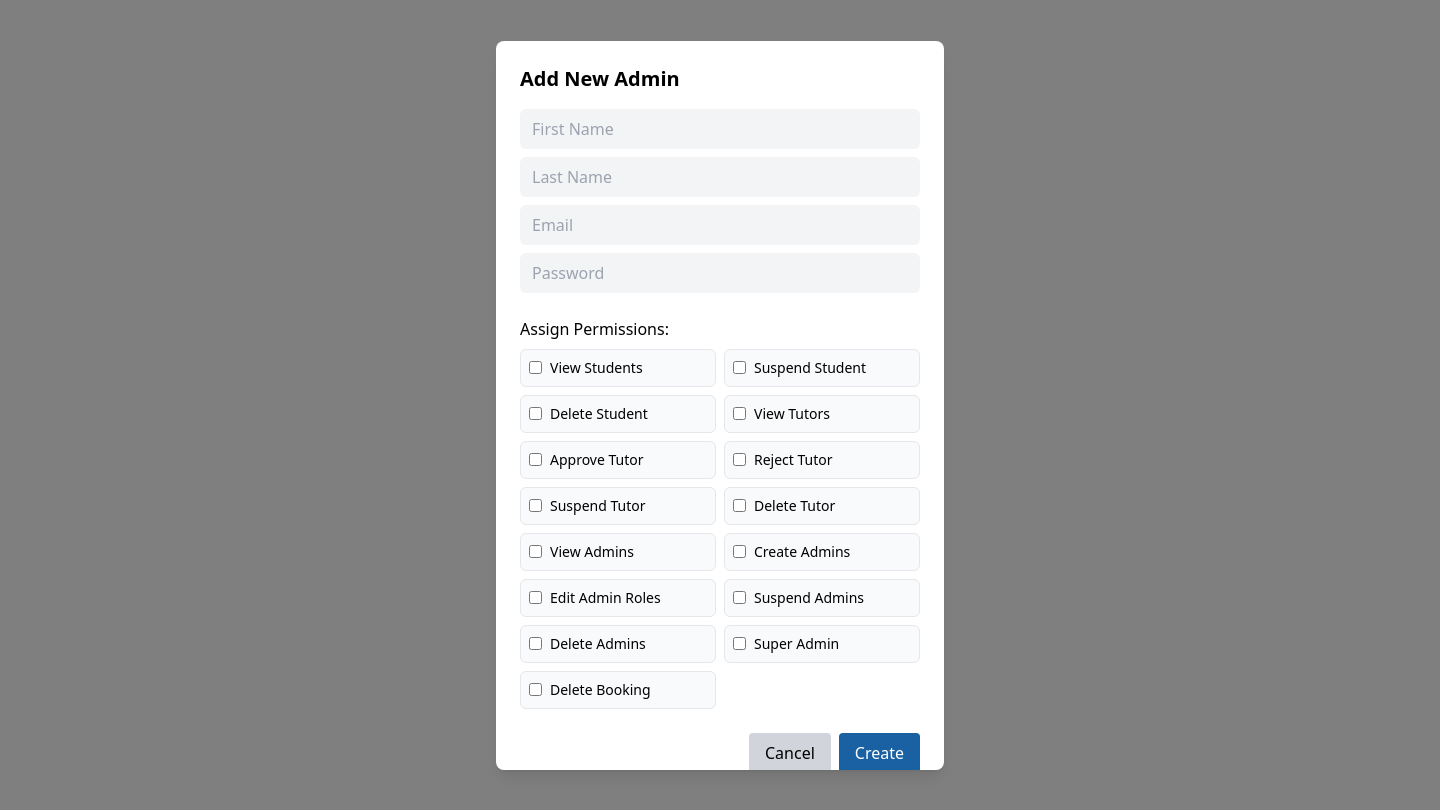
Test: CreateAdminModal › shows validation errors for required fields
This screenshot has width=1440, height=810.
Click the button "Create".
click(879, 752)  # box [839,732,920,772]
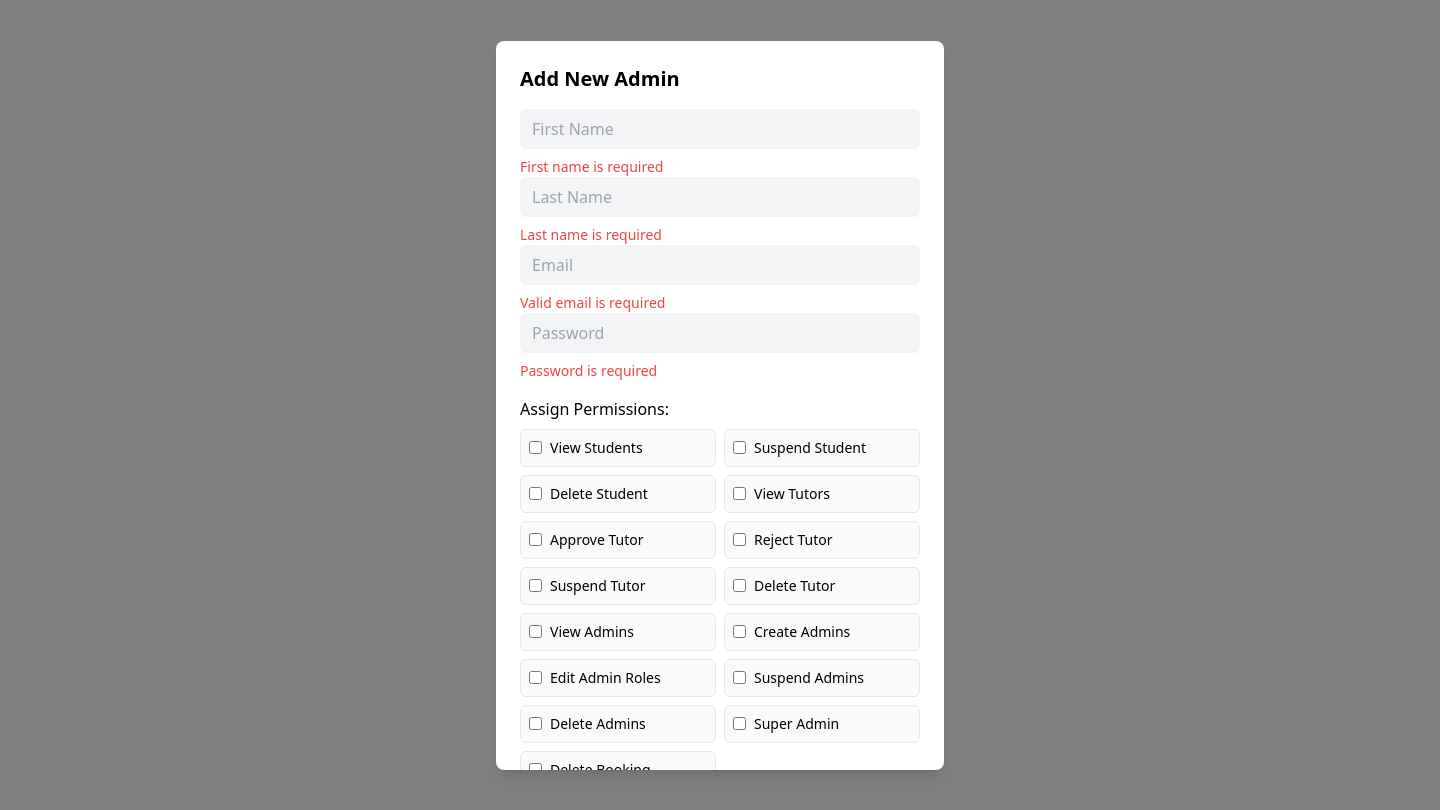
expect the text "First name is required" is shown: met, box [520,156,663,176]
expect the text "Last name is required" is shown: met, box [520,224,662,244]
expect the text "Valid email is required" is shown: met, box [520,292,665,312]
